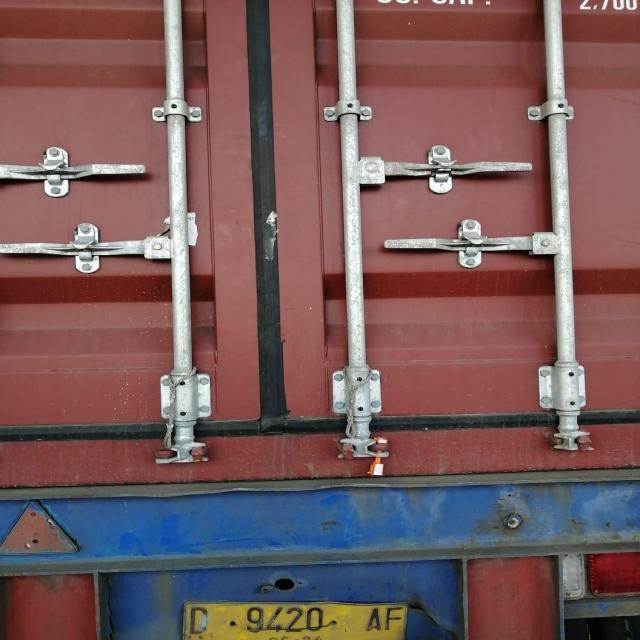seal: (361, 432, 402, 480)
